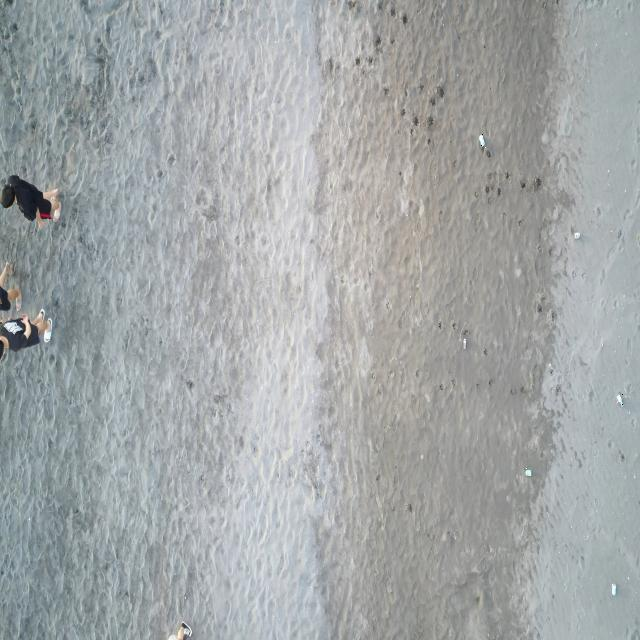Garbage: (477, 135, 489, 156), (477, 135, 484, 150), (615, 393, 623, 406), (524, 467, 531, 475), (573, 232, 580, 239), (462, 337, 466, 348), (612, 583, 615, 595)
